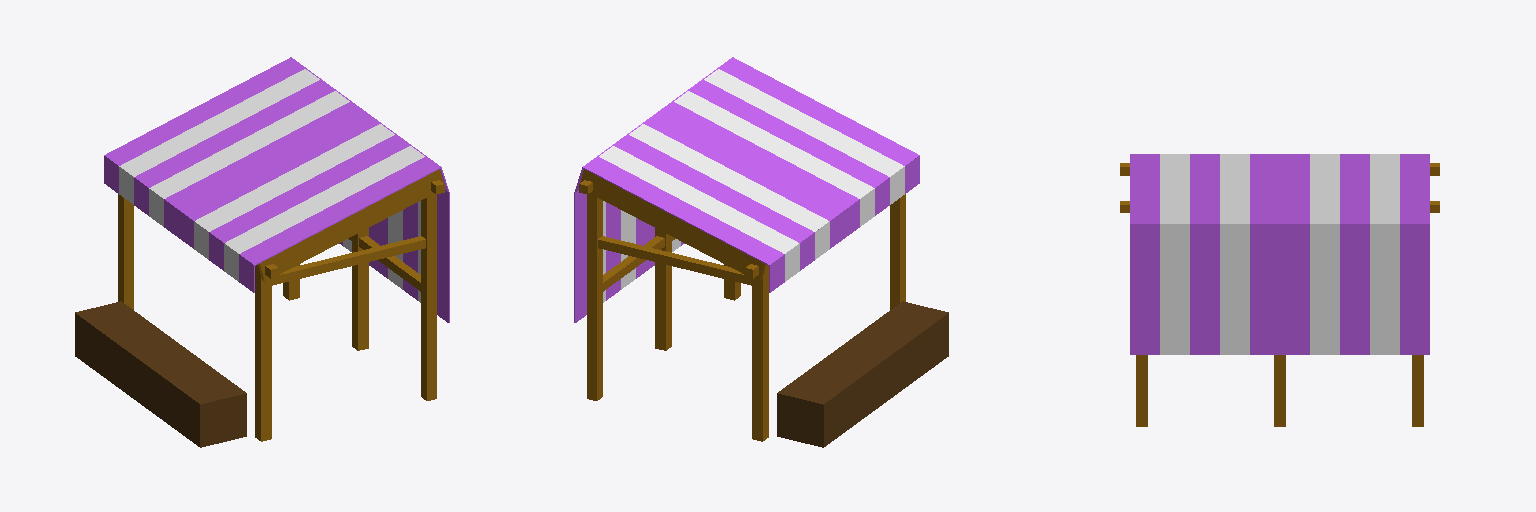
3 views of the same model, side by side, from view 1: azimuth 30°, elevation 25°; view 2: azimuth 150°, elevation 25°; view 3: azimuth 270°, elevation 25° (orthographic).
Parts seen in each view (by area): view 1: top, cube, back, front, side; view 2: top, cube, back, front, side; view 3: back, top.
Part boxes in pixels (x1,y1,x2,y2): top: (104, 58, 443, 281); cube: (75, 301, 246, 447); back: (283, 57, 449, 400); front: (104, 156, 278, 441); side: (272, 236, 425, 285); top: (580, 58, 919, 281); cube: (777, 301, 948, 447); back: (574, 57, 740, 400); front: (745, 156, 919, 441); side: (598, 236, 751, 285); back: (1120, 193, 1439, 426); top: (1130, 154, 1429, 192).
Bounding box in the file's own units: 2.86 × 2.7 × 3.35.
Materials: 3 (3 with a texture image).